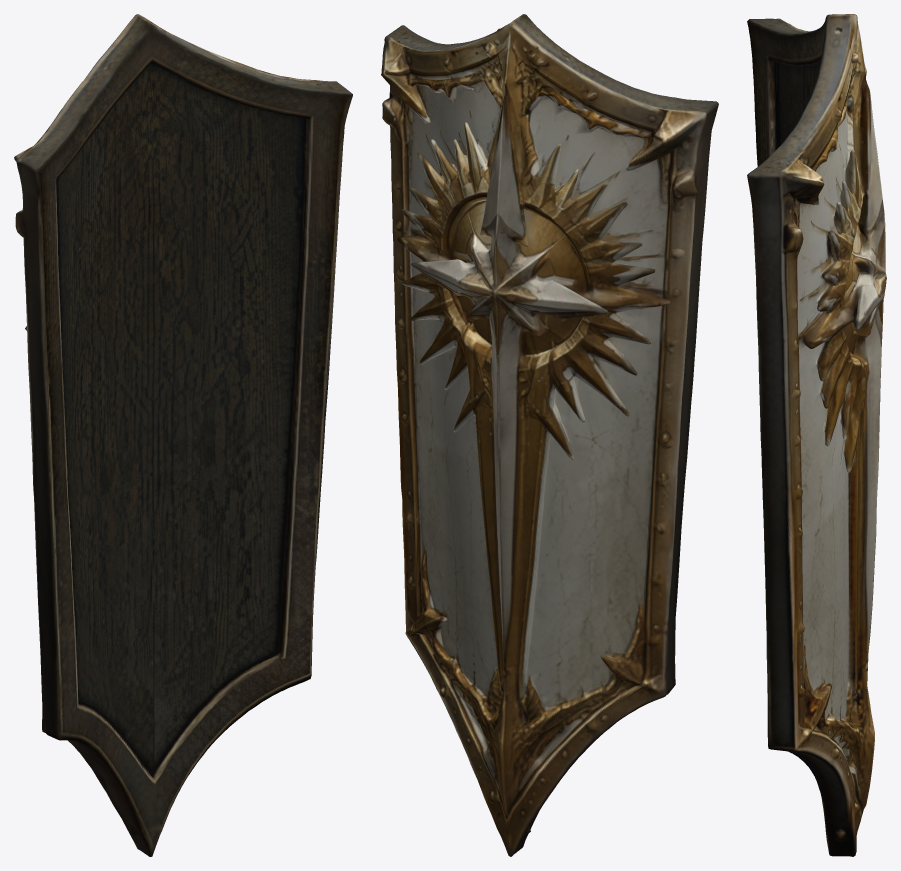
The model's file is tower_sun.glb.
The picture shows the model from 3 angles, left to right: view 1: azimuth 30°, elevation 25°; view 2: azimuth 150°, elevation 25°; view 3: azimuth 270°, elevation 25°; orthographic projection.
Parts seen in each view (by area): view 1: tower_sun; view 2: tower_sun; view 3: tower_sun.
Boxes of the visible parts, x1,y1,x2,y2 form: tower_sun: [14, 14, 352, 856]; tower_sun: [381, 14, 718, 856]; tower_sun: [747, 14, 886, 856].
Size of the model in its own units: 0.4485 by 1.11 by 0.1679.
Materials: 1 (1 with a texture image).
